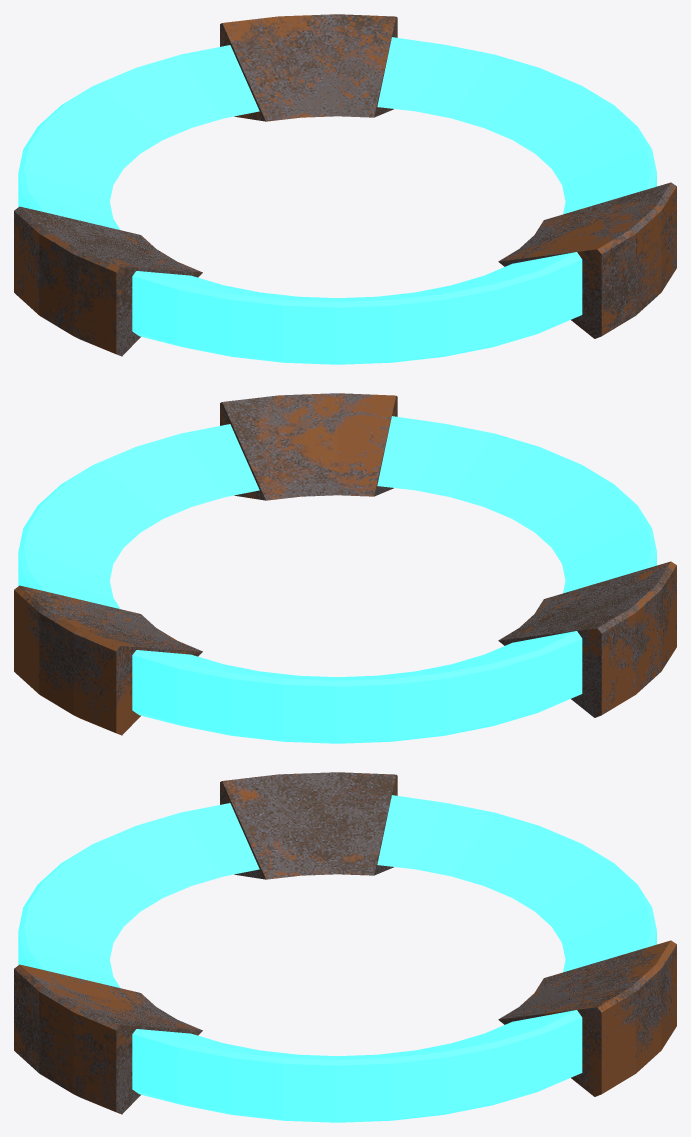
Rendered from miner_machine_ring.fbx.
The picture shows the model from 3 angles, top to bottom: view 1: azimuth 30°, elevation 25°; view 2: azimuth 150°, elevation 25°; view 3: azimuth 270°, elevation 25°; orthographic projection.
Visible parts, largest first — view 1: polySurface6.002; view 2: polySurface6.002; view 3: polySurface6.002.
Boxes of the visible parts, x1=… form: polySurface6.002: x1=14, y1=14, x2=676, y2=364; polySurface6.002: x1=14, y1=393, x2=676, y2=743; polySurface6.002: x1=14, y1=772, x2=676, y2=1122.
Size of the model in its own units: 1.62 by 0.245 by 1.62.
